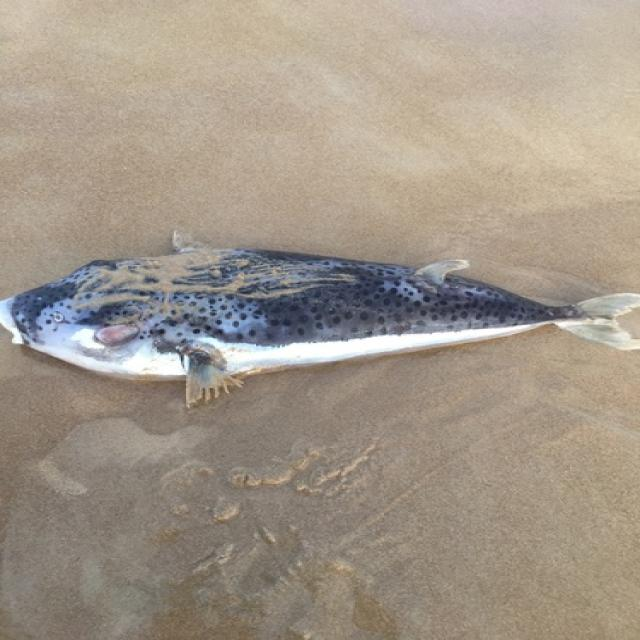Balik: (0, 235, 639, 404)
